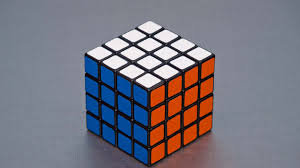rubik_cube: (80, 16, 218, 168)
